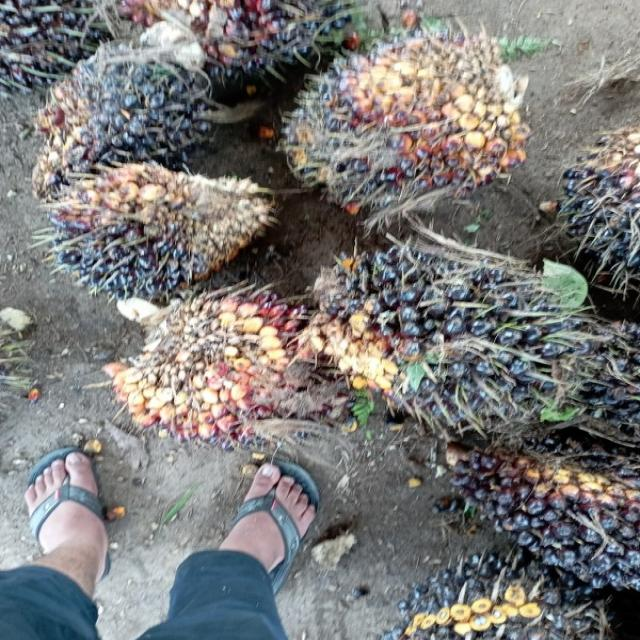fraksi 00: (314, 221, 596, 442), (279, 42, 547, 215), (434, 439, 640, 593), (44, 173, 258, 301), (21, 44, 224, 168), (383, 557, 606, 640)
fraksi 1: (114, 304, 340, 438)
